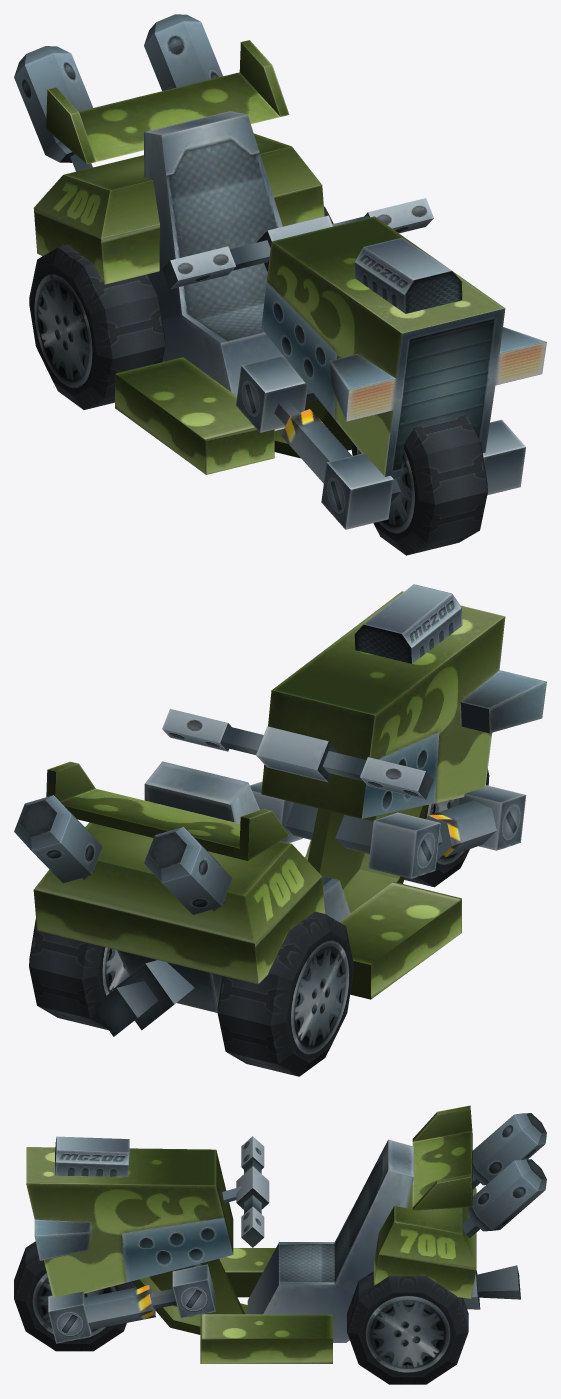
The model's file is Oscar_AI.glb.
3 views of the same model, one above another, from view 1: azimuth 30°, elevation 25°; view 2: azimuth 150°, elevation 25°; view 3: azimuth 270°, elevation 25° (orthographic). The views are drawn at different scales.
Parts seen in each view (by area): view 1: kart_oscar, right_wheel, front_wheel; view 2: kart_oscar, right_wheel, left_wheel, front_wheel; view 3: kart_oscar, left_wheel, front_wheel.
Part boxes in pixels (left/top/right/bottom): kart_oscar: left=14, top=14, right=546, bottom=529; right_wheel: left=29, top=245, right=165, bottom=409; front_wheel: left=351, top=415, right=487, bottom=555; kart_oscar: left=14, top=584, right=546, bottom=1036; right_wheel: left=217, top=911, right=353, bottom=1076; left_wheel: left=29, top=919, right=128, bottom=1030; front_wheel: left=404, top=769, right=489, bottom=887; kart_oscar: left=26, top=1105, right=546, bottom=1363; left_wheel: left=347, top=1271, right=468, bottom=1384; front_wheel: left=14, top=1241, right=135, bottom=1351.
Bounding box in the file's own units: 1.89 × 1.98 × 4.66.
Materials: 1 (1 with a texture image).
